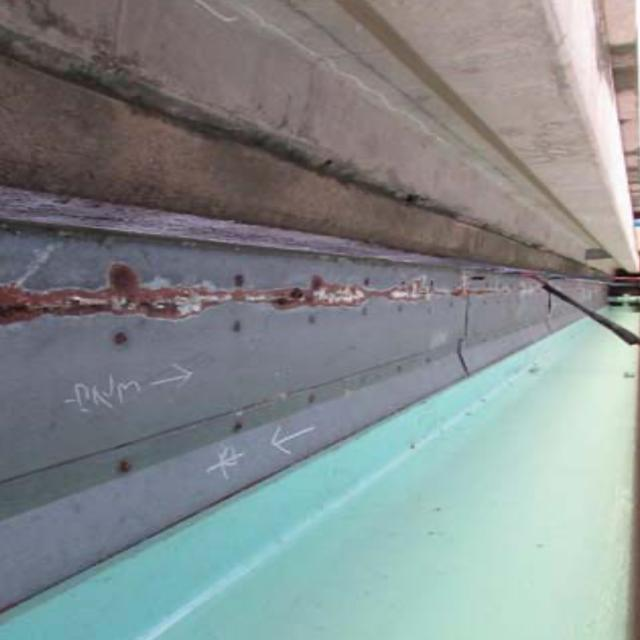corrosion: (3, 254, 510, 344)
